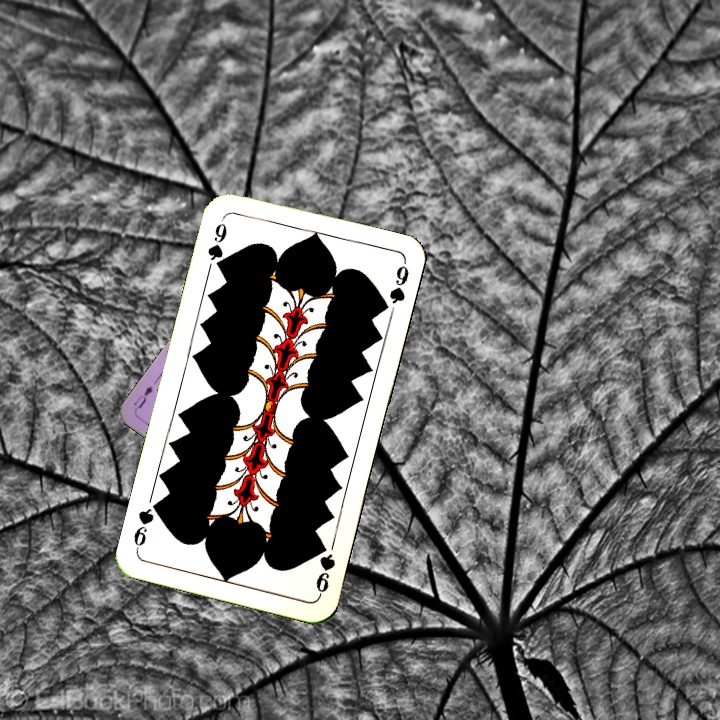G9: (311, 538, 338, 599), (203, 213, 230, 274)
